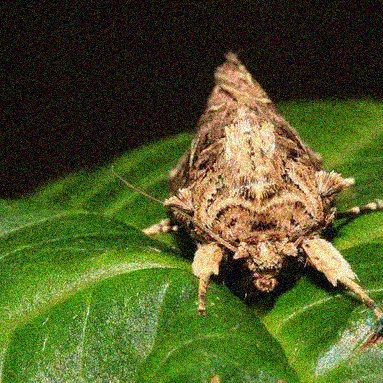Spodoptera litura: (111, 47, 383, 321)
